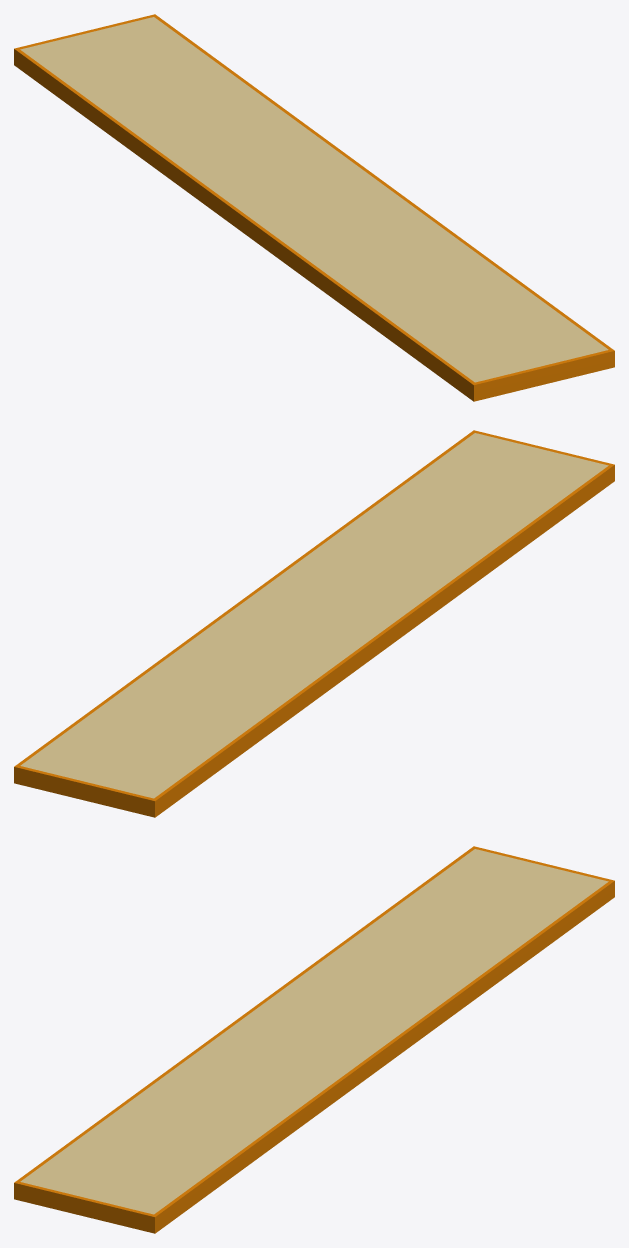
File: Platform_V1_Long_00.fbx
3 views of the same model, one above another, from view 1: azimuth 30°, elevation 25°; view 2: azimuth 150°, elevation 25°; view 3: azimuth 330°, elevation 25° (orthographic).
Parts seen in each view (by area): view 1: Platform_V1_00.001; view 2: Platform_V1_00.001; view 3: Platform_V1_00.001.
Part boxes in pixels (bbox=[...]): Platform_V1_00.001: bbox=[14, 14, 614, 401]; Platform_V1_00.001: bbox=[14, 430, 614, 817]; Platform_V1_00.001: bbox=[14, 846, 614, 1233].
Size of the model in its own units: 7.78 by 0.8707 by 43.93.
1 material, 1 textured.
